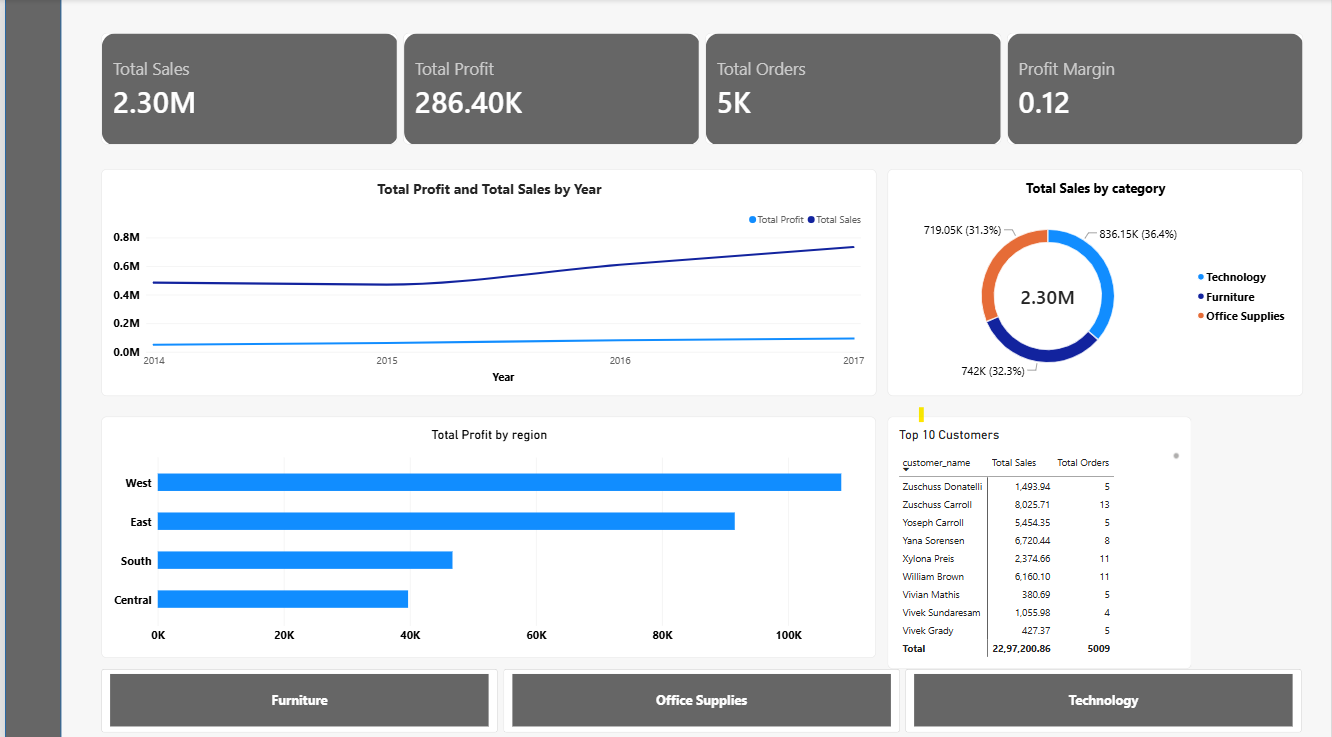

Layout of this report page (visuals, bound fields, positions):
{"tool":"powerbi","page":{"name":"Page 1","canvas":[1920,1080],"ordinal":0},"visuals":[{"type":"cardVisual","fields":{"Data":["Measure Table.Total Sales","Measure Table.Total Profit","Measure Table.Total Orders","Measure Table.Profit Margin"]},"box":[138.7,49.1,1740.8,162.1],"z":0},{"type":"shape","box":[0,0,81.4,1080.4],"z":1000},{"type":"lineChart","fields":{"Category":["ecommerce_sales.order_date.Variation.Date Hierarchy.Year","ecommerce_sales.order_date.Variation.Date Hierarchy.Quarter","ecommerce_sales.order_date.Variation.Date Hierarchy.Month","ecommerce_sales.order_date.Variation.Date Hierarchy.Day"],"Y":["Measure Table.Total Profit","Measure Table.Total Sales"]},"box":[138.7,245.3,1122.1,328.5],"z":2000},{"type":"donutChart","fields":{"Category":["ecommerce_sales.category"],"Y":["Measure Table.Total Sales"]},"box":[1277.9,245.3,601.6,328.5],"z":3000},{"type":"clusteredBarChart","fields":{"Category":["ecommerce_sales.region"],"Y":["Measure Table.Total Profit"]},"box":[139.3,604.4,1122,349.3],"z":4000},{"type":"pivotTable","title":"Top 10 Customers","fields":{"Rows":["ecommerce_sales.customer_name"],"Values":["Measure Table.Total Sales","Measure Table.Total Orders"]},"box":[1277.6,604.4,439.7,365.6],"z":4001},{"type":"advancedSlicerVisual","fields":{"Values":["ecommerce_sales.category"]},"box":[139.3,970,1739.1,92.3],"z":4002}]}

Visuals, with their boxes in screenshot pixels (x1, y1, x2, y2), scaled from the page's 1920x1080 canvas onto the 1332x737 screenshot:
cardVisual - Measure Table.Total Sales x Measure Table.Total Profit: <bbox>96, 34, 1304, 144</bbox>
shape: <bbox>0, 0, 56, 736</bbox>
lineChart - ecommerce_sales.order_date.Variation.Date Hierarchy.Year x ecommerce_sales.order_date.Variation.Date Hierarchy.Quarter: <bbox>96, 167, 875, 392</bbox>
donutChart - ecommerce_sales.category x Measure Table.Total Sales: <bbox>887, 167, 1304, 392</bbox>
clusteredBarChart - ecommerce_sales.region x Measure Table.Total Profit: <bbox>97, 412, 875, 651</bbox>
"Top 10 Customers" pivotTable: <bbox>886, 412, 1191, 662</bbox>
advancedSlicerVisual - ecommerce_sales.category: <bbox>97, 662, 1303, 725</bbox>
